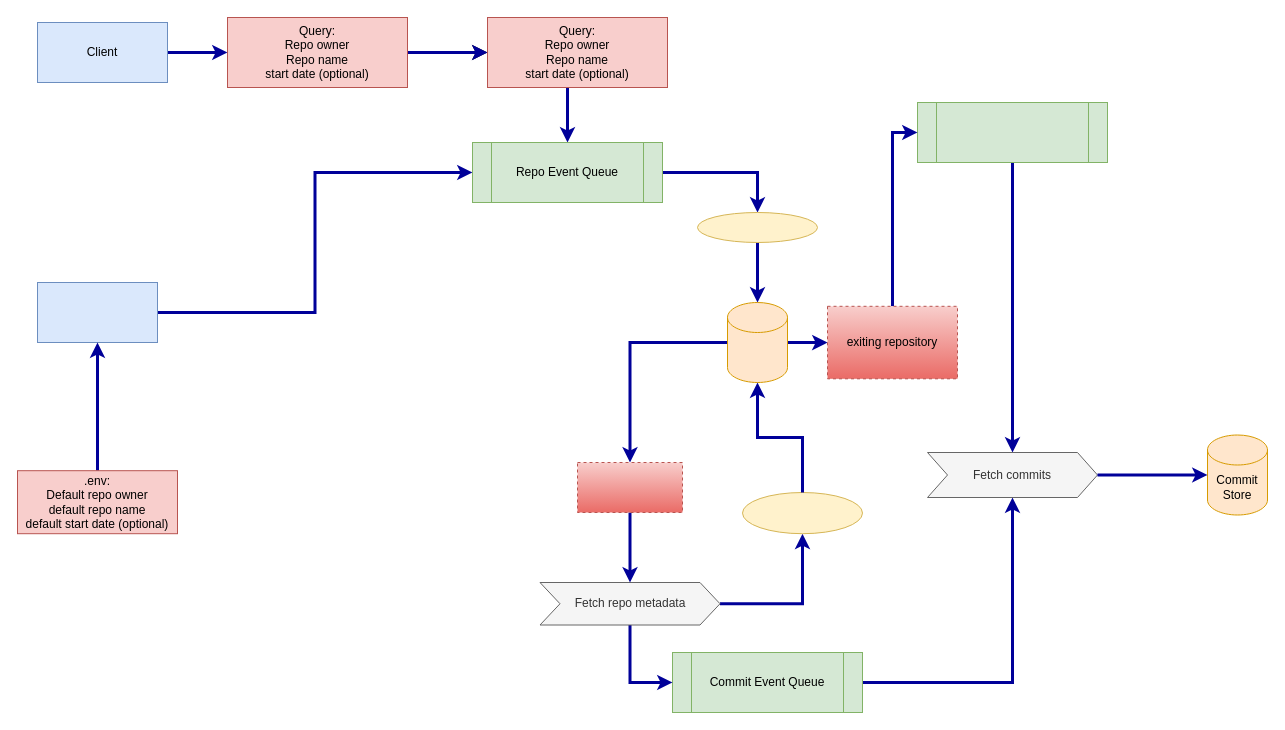
The diagram is 1285 pixels wide and 730 high, and some of its shapes have lost their labels. Here are the shapes that lost their labels. From the top down, the box of each, then its label:
(916, 102, 1108, 162): Periodic-commit-check Event Queue
(696, 212, 818, 242): query
(36, 282, 158, 342): Startup Query
(726, 302, 788, 382): Repo Store
(576, 462, 682, 512): New repository
(742, 492, 862, 534): store
